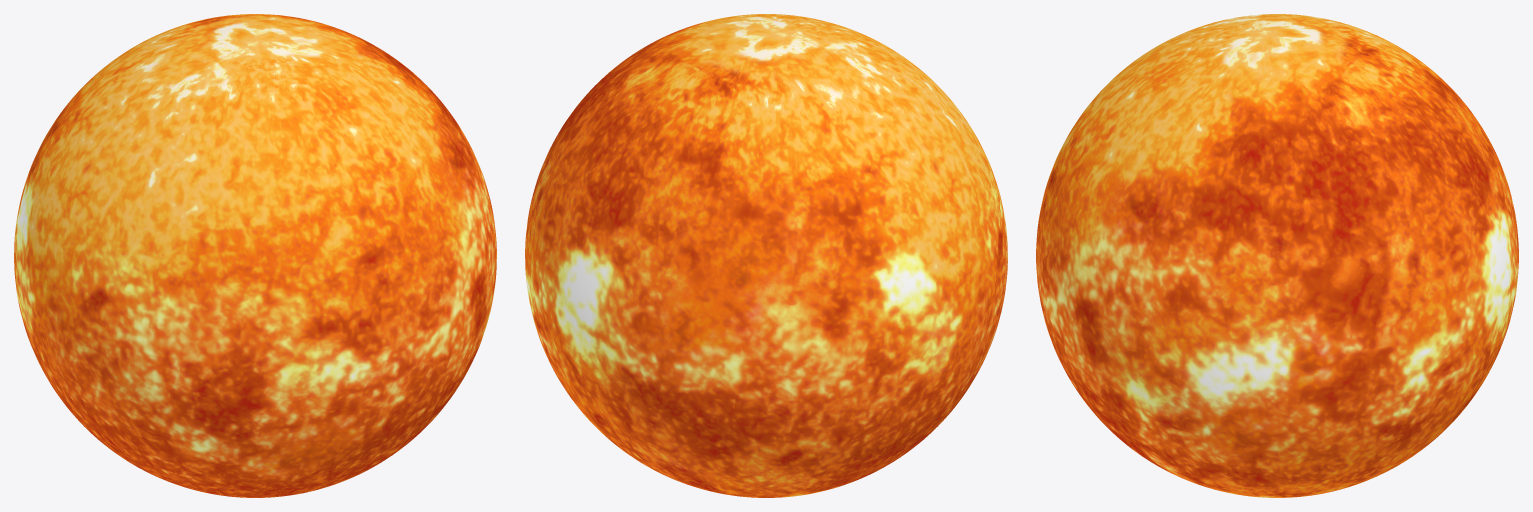
The model's file is Sun.compressed.glb.
3 views of the same model, side by side, from view 1: azimuth 30°, elevation 25°; view 2: azimuth 150°, elevation 25°; view 3: azimuth 270°, elevation 25° (orthographic).
Visible parts, largest first — view 1: Sun; view 2: Sun; view 3: Sun.
Part boxes in pixels (box(x1,y1,x2,y2)): Sun: box(14, 14, 496, 497); Sun: box(525, 14, 1007, 497); Sun: box(1036, 14, 1518, 497).
Size of the model in its own units: 1.99 by 2 by 1.99.
1 material, 1 textured.
